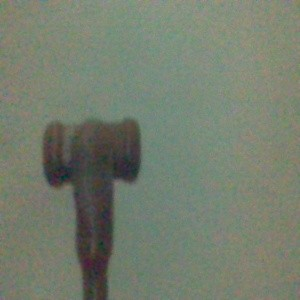palu: (41, 115, 142, 300)
